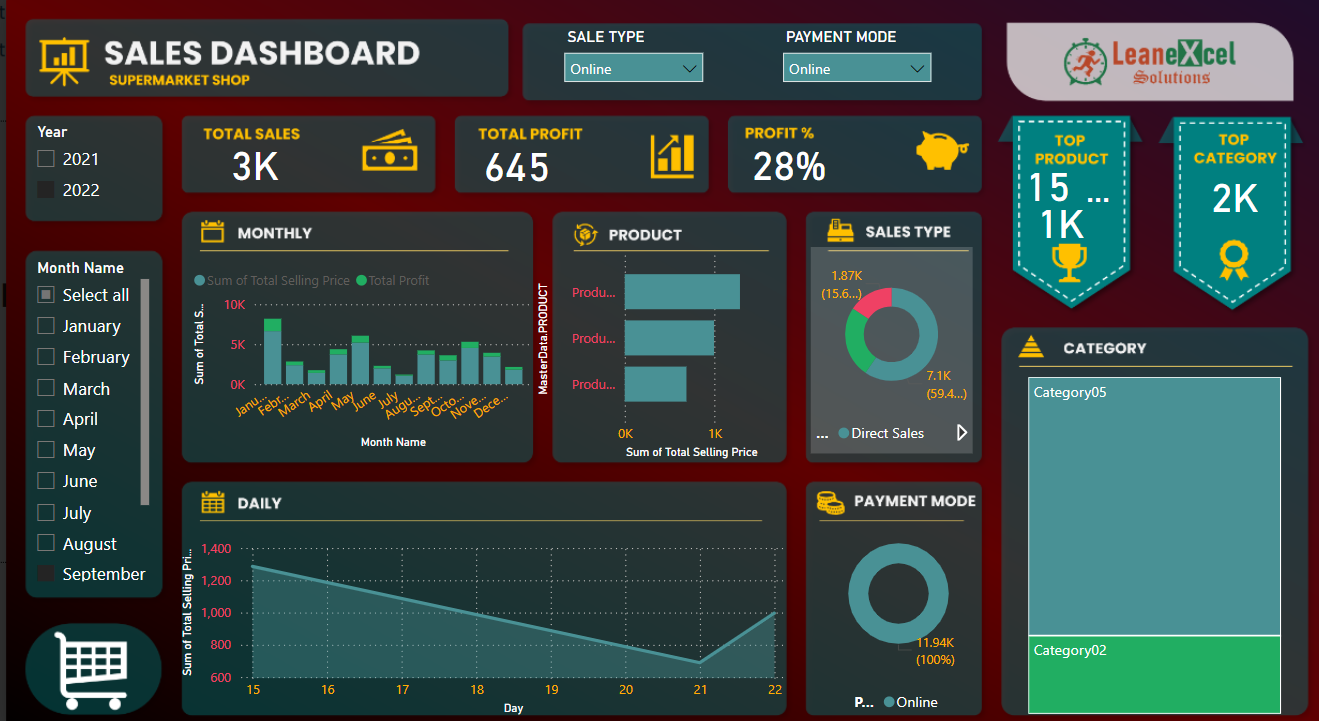

This screenshot's page, from the dashboard's own definition file:
{"tool":"powerbi","page":{"name":"Page 1","canvas":[1280,720],"ordinal":0},"visuals":[{"type":"slicer","fields":{"Values":["InputData.Year"]},"box":[42.9,121.4,122.9,97.1],"z":0},{"type":"slicer","fields":{"Values":["InputData.Month Name"]},"box":[42.9,248.6,122.9,311.4],"z":1000},{"type":"slicer","fields":{"Values":["InputData.SALE TYPE"]},"box":[538.6,32.9,150,65.7],"z":2000},{"type":"slicer","fields":{"Values":["InputData.PAYMENT MODE"]},"box":[742.9,32.9,158.6,65.7],"z":3000},{"type":"card","fields":{"Values":["Sum(InputData.Total Selling Price)"]},"box":[185.7,130,148.6,68.6],"z":4000},{"type":"card","fields":{"Values":["InputData.Total Profit"]},"box":[432.9,137.1,142.9,57.1],"z":5000},{"type":"card","fields":{"Values":["InputData.Profit %"]},"box":[672.9,130,172.9,68.6],"z":6000},{"type":"card","fields":{"Values":["Sum(InputData.Total Selling Price)"]},"box":[951.4,194.3,121.4,48.6],"z":7000},{"type":"card","fields":{"Values":["Sum(InputData.Total Selling Price)"]},"box":[1114.3,137.1,120,114.3],"z":8000},{"type":"card","fields":{"Values":["Sum(InputData.QUANTITY)"]},"box":[961.4,150,77.1,68.6],"z":9000},{"type":"card","fields":{"Values":["Min(InputData.MasterData.UOM)"]},"box":[1021.4,140,51.4,88.6],"z":10000},{"type":"columnChart","fields":{"Category":["InputData.Month Name"],"Y":["Sum(InputData.Total Selling Price)","InputData.Total Profit"]},"box":[197.1,254.3,325.7,181.4],"z":11000},{"type":"clusteredBarChart","fields":{"Category":["InputData.MasterData.PRODUCT"],"Y":["Sum(InputData.Total Selling Price)"]},"box":[518.6,238.6,224.3,207.1],"z":12000},{"type":"areaChart","fields":{"Category":["InputData.Day"],"Y":["Sum(InputData.Total Selling Price)"]},"box":[185.7,510,574.3,174.3],"z":13000},{"type":"donutChart","fields":{"Y":["Sum(InputData.Total Selling Price)"],"Category":["InputData.SALE TYPE"]},"box":[778.6,242.9,151.4,192.9],"z":14000},{"type":"donutChart","fields":{"Y":["Sum(InputData.Total Selling Price)"],"Category":["InputData.PAYMENT MODE"]},"box":[778.6,475.7,164.3,210],"z":15000},{"type":"treemap","fields":{"Values":["Sum(InputData.Total Selling Price)"],"Group":["InputData.MasterData.CATEGORY"]},"box":[977.1,360,245.7,324.3],"z":16000}]}

Visuals, with their boxes in screenshot pixels (x1, y1, x2, y2), scaled from the page's 1280x720 canvas onto the 1319x721 screenshot:
slicer - InputData.Year: rect(44, 122, 171, 219)
slicer - InputData.Month Name: rect(44, 249, 171, 561)
slicer - InputData.SALE TYPE: rect(555, 33, 710, 99)
slicer - InputData.PAYMENT MODE: rect(766, 33, 929, 99)
card - Sum(InputData.Total Selling Price): rect(191, 130, 344, 199)
card - InputData.Total Profit: rect(446, 137, 593, 194)
card - InputData.Profit %: rect(693, 130, 872, 199)
card - Sum(InputData.Total Selling Price): rect(980, 195, 1105, 243)
card - Sum(InputData.Total Selling Price): rect(1148, 137, 1272, 252)
card - Sum(InputData.QUANTITY): rect(991, 150, 1070, 219)
card - Min(InputData.MasterData.UOM): rect(1053, 140, 1105, 229)
columnChart - InputData.Month Name x Sum(InputData.Total Selling Price): rect(203, 255, 539, 436)
clusteredBarChart - InputData.MasterData.PRODUCT x Sum(InputData.Total Selling Price): rect(534, 239, 766, 446)
areaChart - InputData.Day x Sum(InputData.Total Selling Price): rect(191, 511, 783, 685)
donutChart - Sum(InputData.Total Selling Price) x InputData.SALE TYPE: rect(802, 243, 958, 436)
donutChart - Sum(InputData.Total Selling Price) x InputData.PAYMENT MODE: rect(802, 476, 972, 687)
treemap - Sum(InputData.Total Selling Price) x InputData.MasterData.CATEGORY: rect(1007, 360, 1260, 685)
